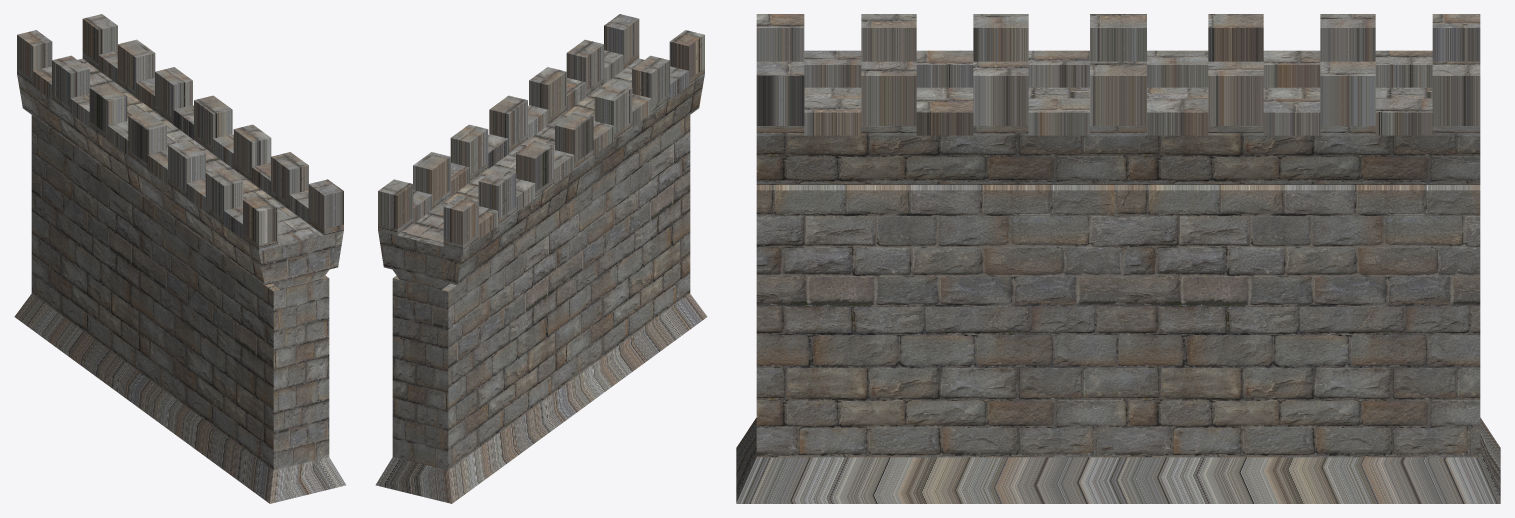
File: Wall.fbx
3 views of the same model, side by side, from view 1: azimuth 30°, elevation 25°; view 2: azimuth 150°, elevation 25°; view 3: azimuth 270°, elevation 25° (orthographic). The views are drawn at different scales.
Visible parts, largest first — view 1: pCube1; view 2: pCube1; view 3: pCube1.
Part boxes in pixels (x1=…): pCube1: x1=14, y1=14, x2=346, y2=503; pCube1: x1=375, y1=14, x2=707, y2=503; pCube1: x1=736, y1=14, x2=1500, y2=503.
Size of the model in its own units: 27.08 by 87.82 by 141.
